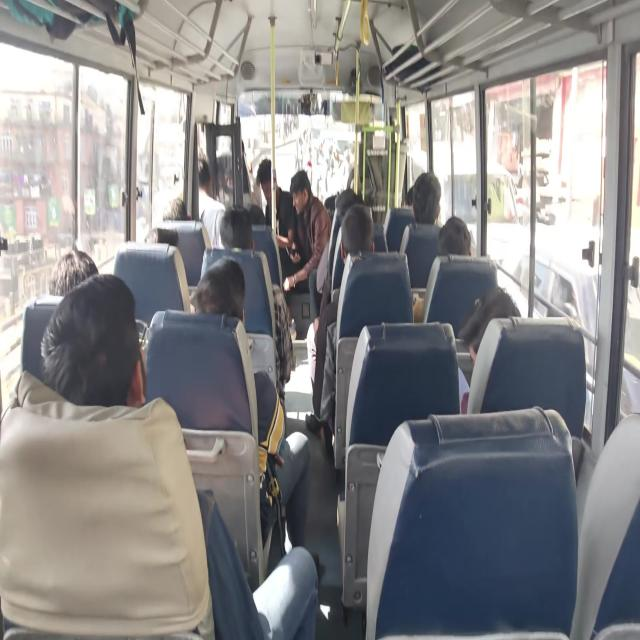person: (39, 271, 319, 639), (194, 256, 310, 550), (305, 203, 375, 456), (40, 272, 147, 408), (12, 247, 99, 406), (457, 286, 521, 414), (163, 147, 226, 249), (412, 215, 472, 322), (282, 170, 331, 294), (398, 171, 442, 254), (257, 158, 296, 250), (194, 256, 246, 325), (197, 150, 226, 250), (48, 246, 99, 296), (411, 171, 441, 225), (219, 205, 253, 250), (438, 216, 472, 257)
